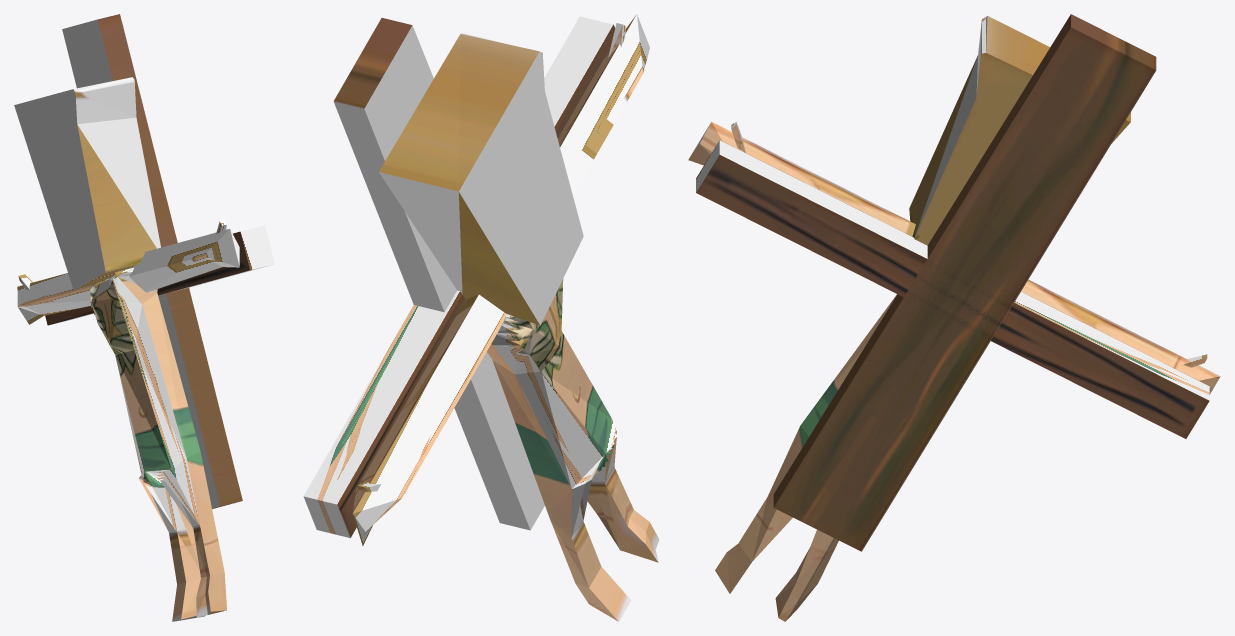
The model's file is invyoshi.glb.
3 views of the same model, side by side, from view 1: azimuth 30°, elevation 25°; view 2: azimuth 150°, elevation 25°; view 3: azimuth 270°, elevation 25° (orthographic). The views are drawn at different scales.
Parts seen in each view (by area): view 1: invyoshi; view 2: invyoshi; view 3: invyoshi.
Boxes of the visible parts, bbox=[...] form: invyoshi: bbox=[14, 14, 274, 621]; invyoshi: bbox=[303, 14, 659, 621]; invyoshi: bbox=[688, 14, 1220, 621].
Bounding box in the file's own units: 3.34 × 20.05 × 15.67.
1 material, 1 textured.
